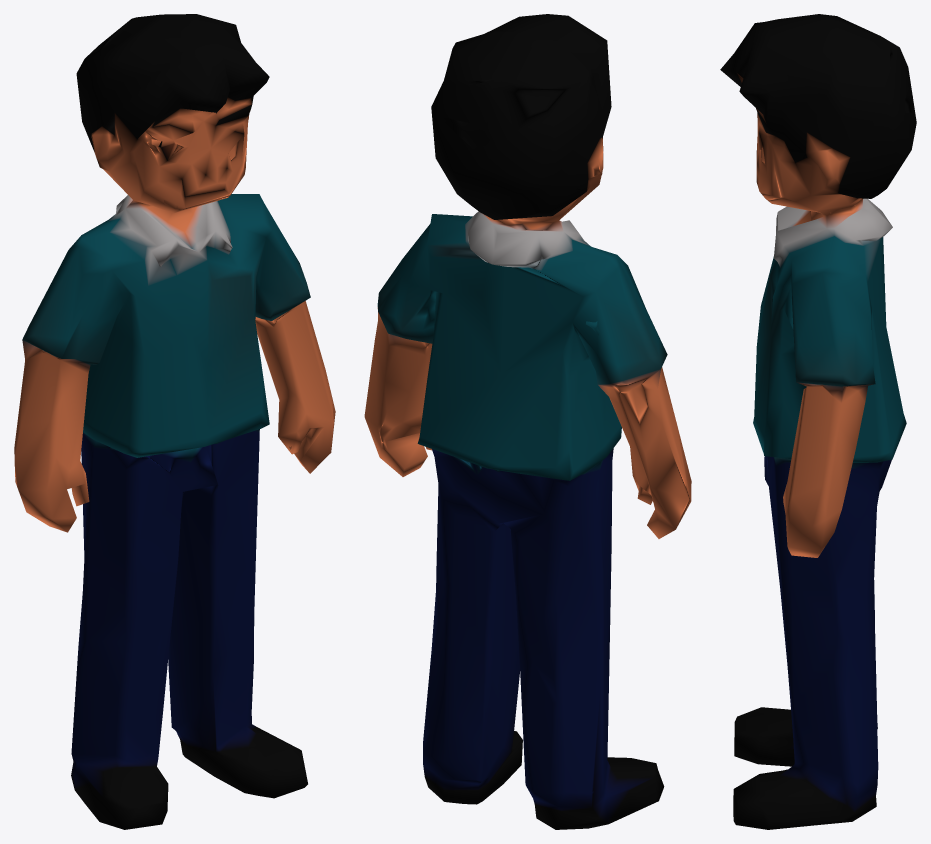
Rendered from gen3d-teacher-lod0.glb.
The picture shows the model from 3 angles, left to right: view 1: azimuth 30°, elevation 25°; view 2: azimuth 150°, elevation 25°; view 3: azimuth 270°, elevation 25°; orthographic projection.
Parts seen in each view (by area): view 1: part_0; view 2: part_0; view 3: part_0.
Part boxes in pixels (left/top/right/bottom): part_0: left=14, top=14, right=335, bottom=829; part_0: left=364, top=14, right=691, bottom=829; part_0: left=720, top=14, right=916, bottom=829.
Size of the model in its own units: 0.4359 by 1 by 0.2329.
